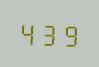four: (18, 18, 37, 46)
nine: (59, 20, 78, 47)
three: (39, 19, 58, 47)
